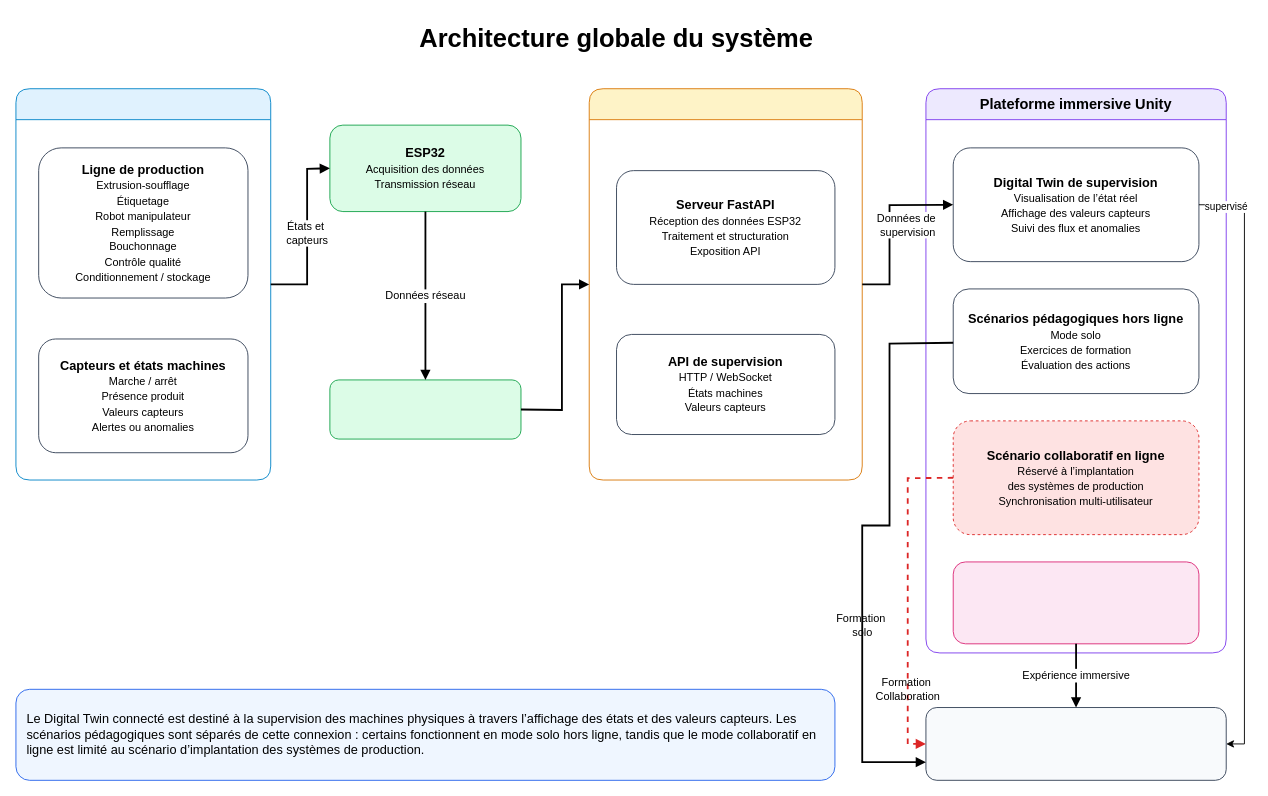
Some shapes in this 1268 by 796 pixel diagram are drawn without their labels. The box of each missing label's shape, as (x1, y1, x2, y2) in pixels:
Couche communication et données: (588, 88, 862, 480)
Interface VR Meta Quest 3 Interaction immersive Tableaux de supervision: (952, 561, 1199, 644)
Mini-usine physique PEHD: (15, 88, 271, 480)
Réseau Wi-Fi: (329, 379, 521, 439)
Utilisateurs Étudiant / Formateur / Superviseur: (925, 707, 1226, 780)
